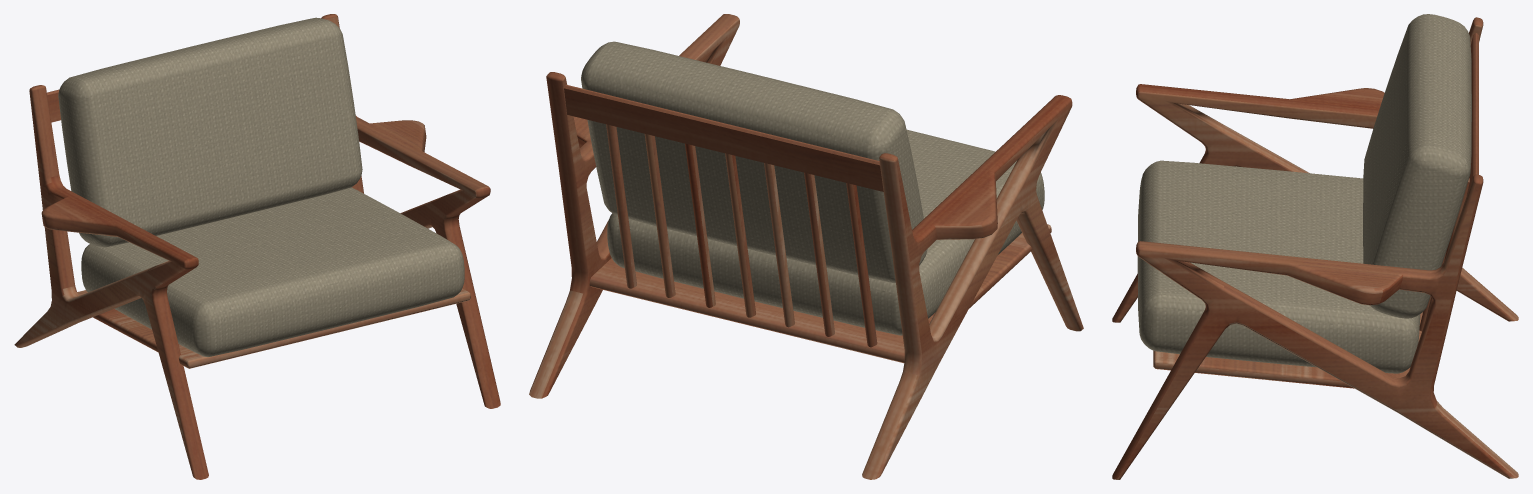
File: chair.glb
The picture shows the model from 3 angles, left to right: view 1: azimuth 30°, elevation 25°; view 2: azimuth 150°, elevation 25°; view 3: azimuth 270°, elevation 25°; orthographic projection. The views are drawn at different scales.
Parts seen in each view (by area): view 1: chair_efnichair_0, chair_vidurchair_0; view 2: chair_vidurchair_0, chair_efnichair_0; view 3: chair_efnichair_0, chair_vidurchair_0.
Part boxes in pixels (bbox=[...]): chair_efnichair_0: bbox=[58, 17, 464, 357]; chair_vidurchair_0: bbox=[14, 14, 500, 479]; chair_vidurchair_0: bbox=[529, 14, 1083, 479]; chair_efnichair_0: bbox=[581, 41, 1044, 335]; chair_efnichair_0: bbox=[1137, 14, 1471, 373]; chair_vidurchair_0: bbox=[1112, 17, 1518, 479].
Size of the model in its own units: 0.8955 by 0.6556 by 0.7542.
Materials: 2 (2 with a texture image).
